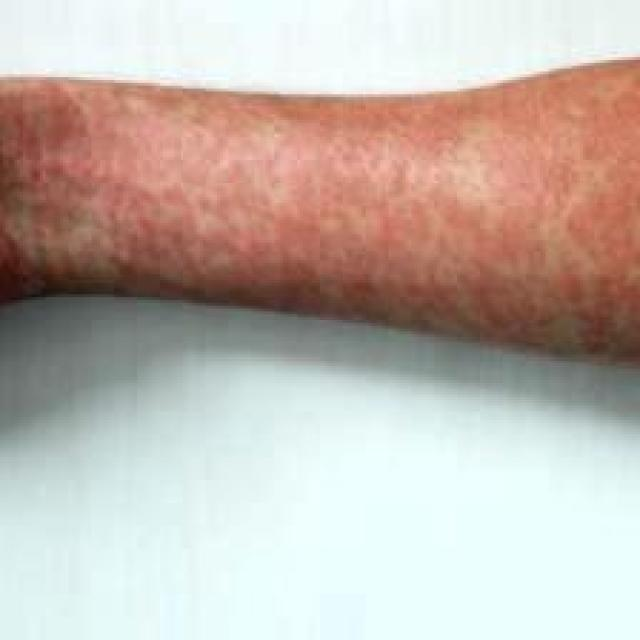others: (0, 80, 640, 393)
